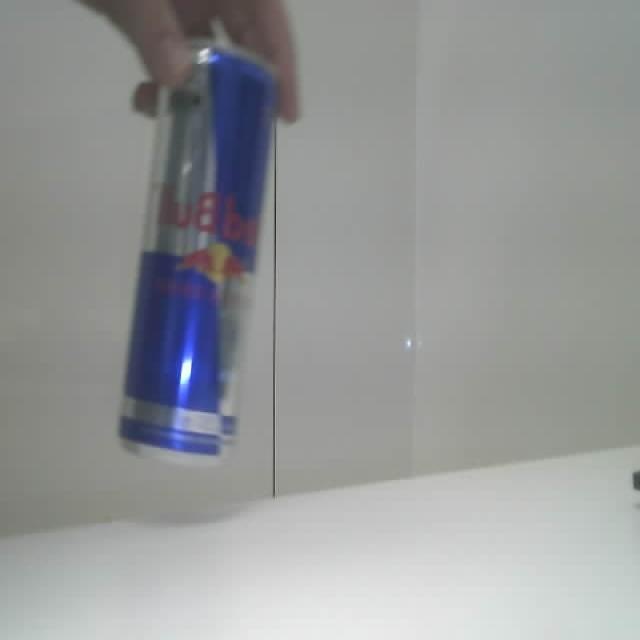redbull can: (119, 40, 276, 462)
